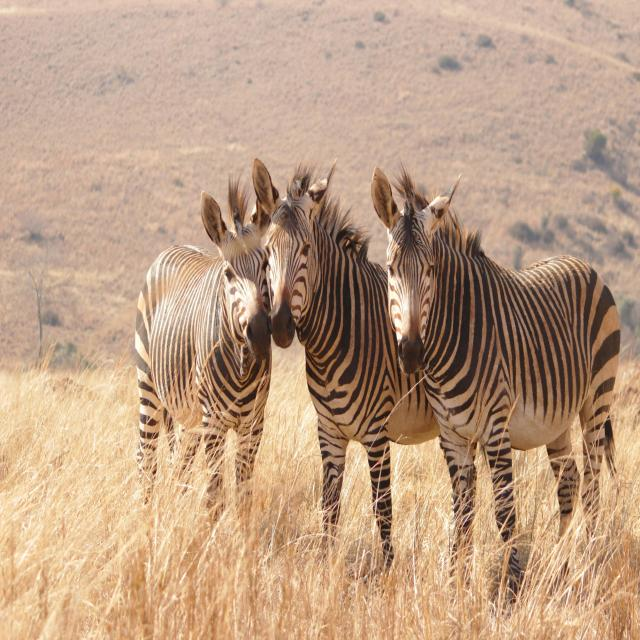Zebra: (370, 163, 620, 593), (251, 157, 514, 562), (135, 172, 269, 505)
